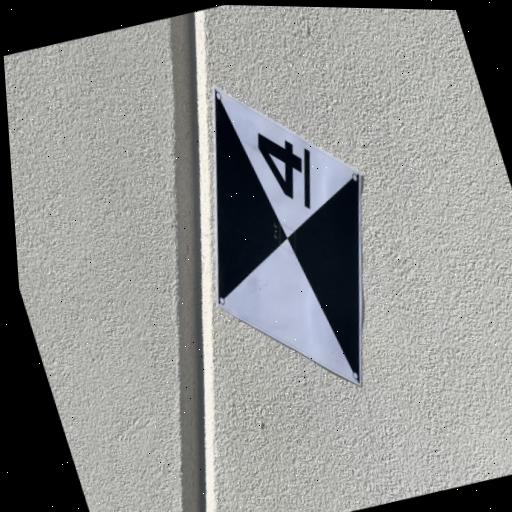target4: (212, 84, 362, 384)
